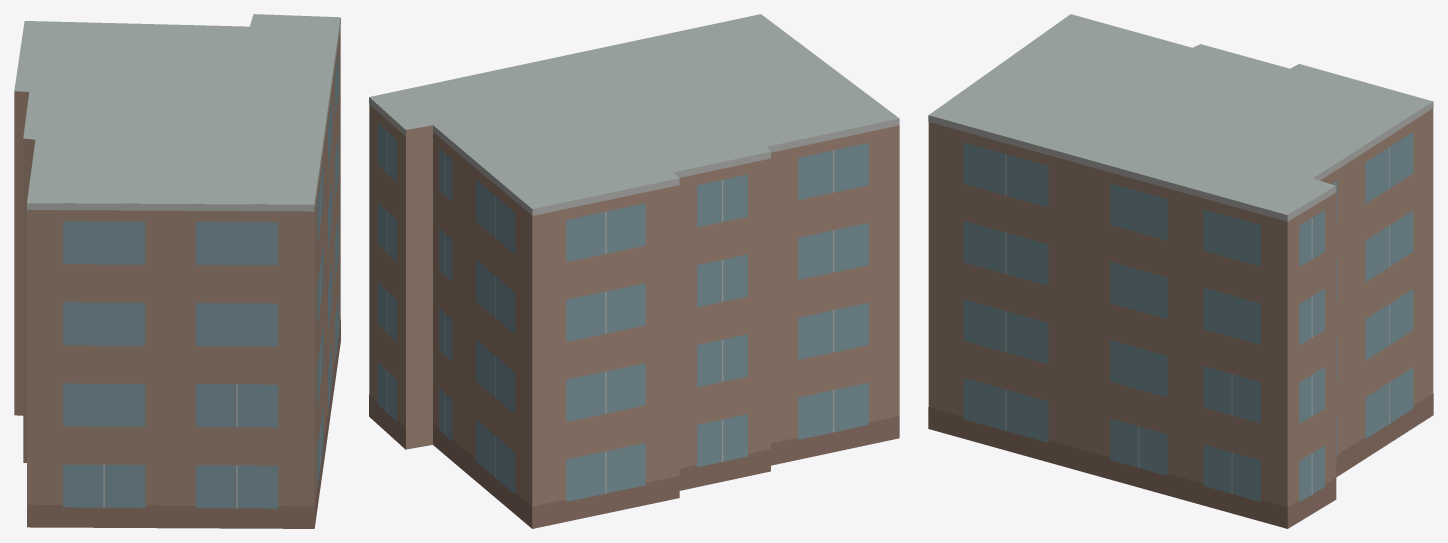
File: survey-upis-32991764.glb
The picture shows the model from 3 angles, left to right: view 1: azimuth 30°, elevation 25°; view 2: azimuth 150°, elevation 25°; view 3: azimuth 270°, elevation 25°; orthographic projection. The views are drawn at different scales.
Visible parts, largest first — view 1: survey-upis-32991764.tmp; view 2: survey-upis-32991764.tmp; view 3: survey-upis-32991764.tmp.
Part boxes in pixels (box(x1,y1,x2,y2)): survey-upis-32991764.tmp: box(14, 14, 340, 528); survey-upis-32991764.tmp: box(369, 14, 899, 528); survey-upis-32991764.tmp: box(928, 14, 1433, 528).
Bounding box in the file's own units: 15.96 × 11.6 × 16.93.
